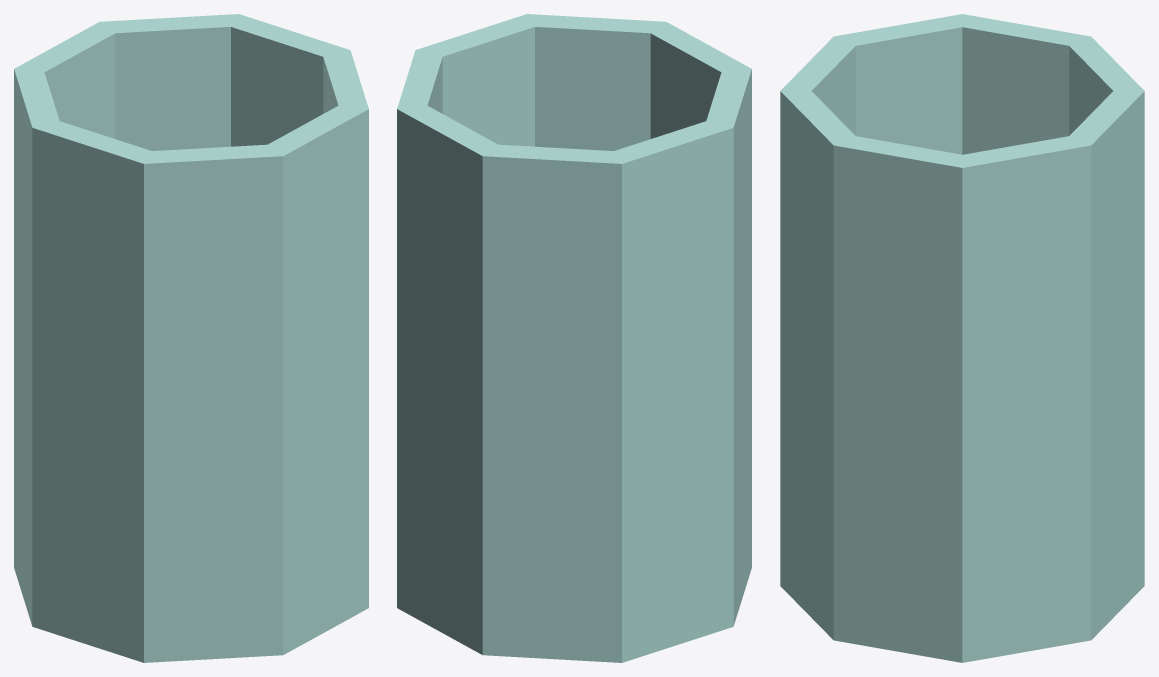
The model's file is Glass.fbx.
3 renders of one model, left to right at view 1: azimuth 30°, elevation 25°; view 2: azimuth 150°, elevation 25°; view 3: azimuth 270°, elevation 25°, orthographic.
Parts seen in each view (by area): view 1: Glass.002; view 2: Glass.002; view 3: Glass.002.
Part boxes in pixels (x1,y1,x2,y2): Glass.002: (14, 14, 368, 662); Glass.002: (397, 14, 751, 662); Glass.002: (780, 14, 1144, 662).
Size of the model in its own units: 25.56 by 25.56 by 38.31.
